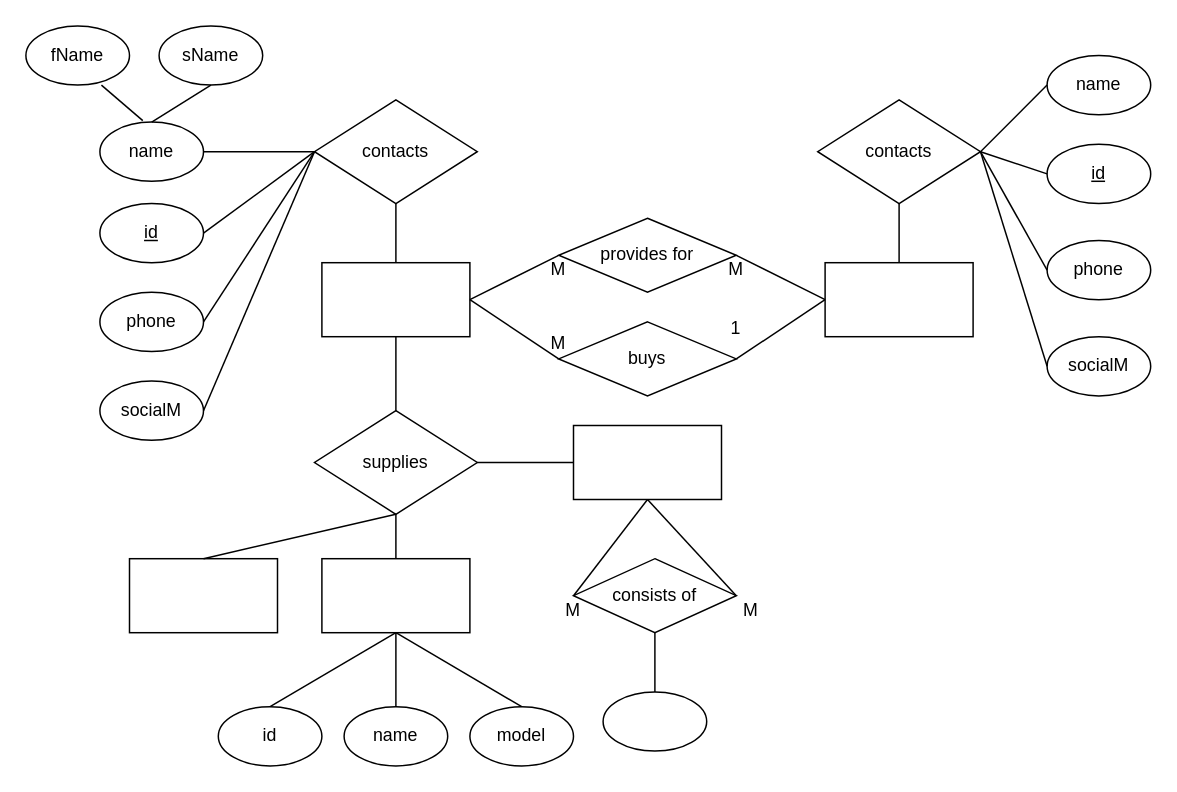
The diagram is 1177 pixels wide and 792 high, and some of its shapes have lost their labels. Here are the shapes that lost their labels. From the top down, the centre of each, then its label:
At point (395, 299): "enterprise".
At point (898, 299): "university".
At point (647, 462): "part".
At point (203, 595): "field".
At point (395, 595): "products".
At point (654, 720): "quantity".
